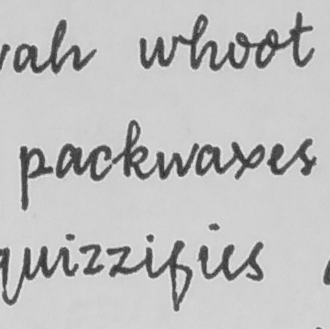a: (52, 141, 84, 181), (193, 142, 224, 177)
c: (87, 141, 114, 182)
e: (266, 141, 288, 177)
k: (120, 117, 151, 181)
p: (17, 144, 47, 213)
s: (294, 136, 319, 178)
w: (153, 139, 199, 181)
x: (227, 139, 266, 181)
